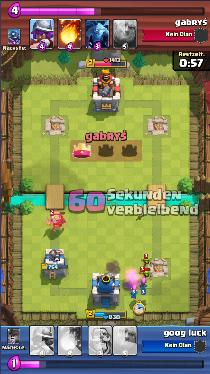ally_archer: (129, 284, 138, 299), (140, 277, 147, 295)
enemy_goblin: (139, 268, 152, 280), (141, 256, 151, 267)
enemy_knight: (46, 213, 67, 230)
